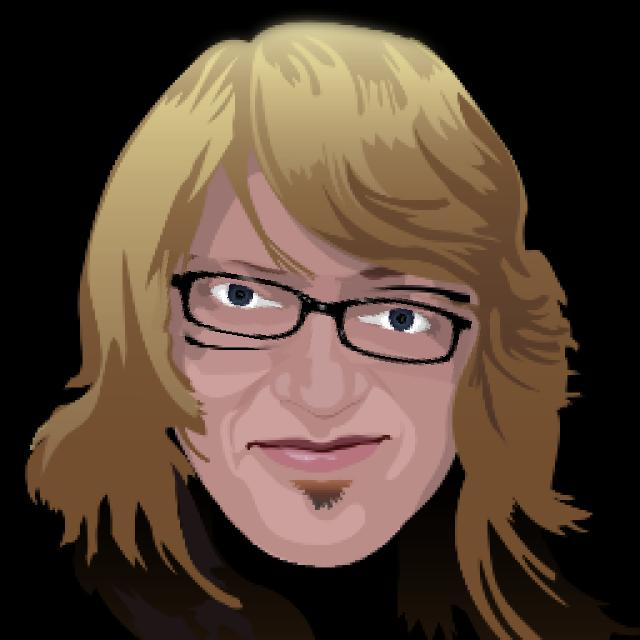glasses: (153, 264, 486, 374)
